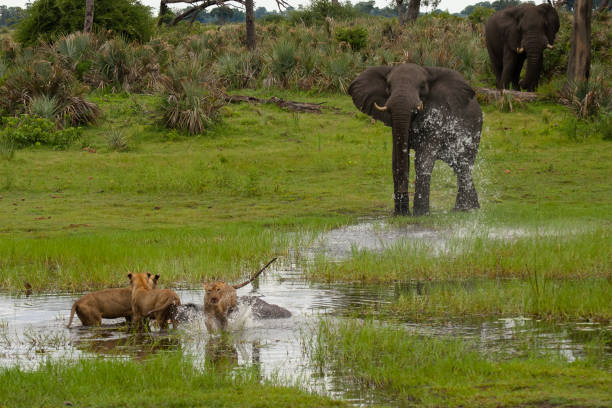africanelephant: (369, 65, 446, 139)
